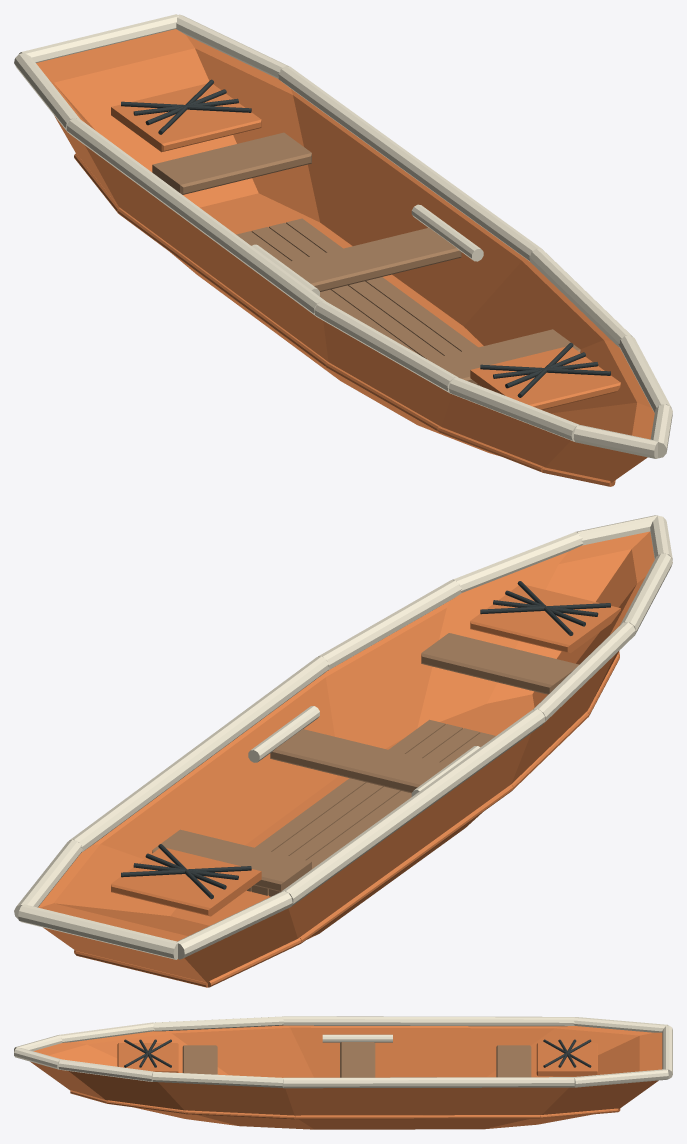
Rendered from harbor-and-tackle-fishing-canoe-ae7dd05c__19548.glb.
3 renders of one model, top to bottom at view 1: azimuth 30°, elevation 25°; view 2: azimuth 150°, elevation 25°; view 3: azimuth 270°, elevation 25°, orthographic. The views are drawn at different scales.
Parts seen in each view (by area): view 1: orange, ivory, cedar, rubber; view 2: orange, ivory, cedar, rubber; view 3: orange, ivory, cedar, rubber.
Part boxes in pixels (<box>): orange: <box>36,29,654,486</box>; ivory: <box>14,14,672,458</box>; cedar: <box>152,132,580,386</box>; rubber: <box>121,79,610,397</box>; orange: <box>38,531,654,987</box>; ivory: <box>14,515,672,959</box>; cedar: <box>152,633,578,896</box>; rubber: <box>121,581,610,899</box>; orange: <box>30,1025,662,1129</box>; ivory: <box>14,1016,672,1088</box>; cedar: <box>182,1042,531,1077</box>; rubber: <box>124,1039,591,1067</box>.
Bounding box in the file's own units: 1.02 × 0.4649 × 4.31.
